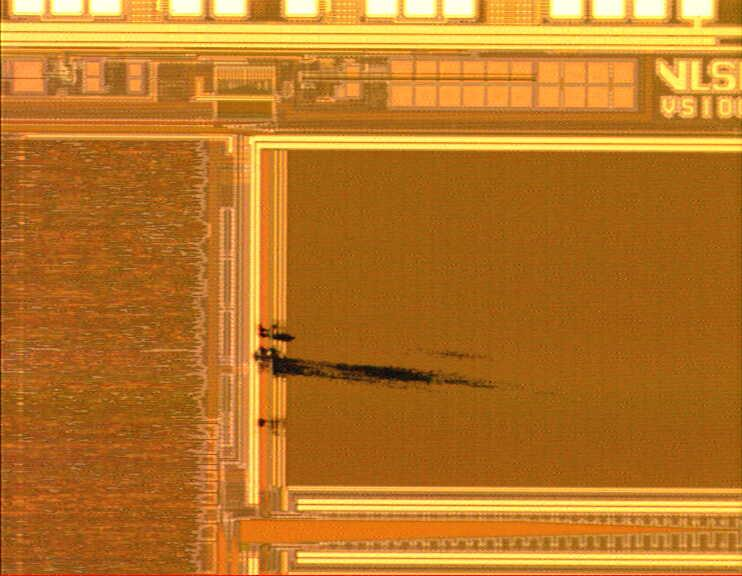SCRATCH: (246, 316, 512, 440)
